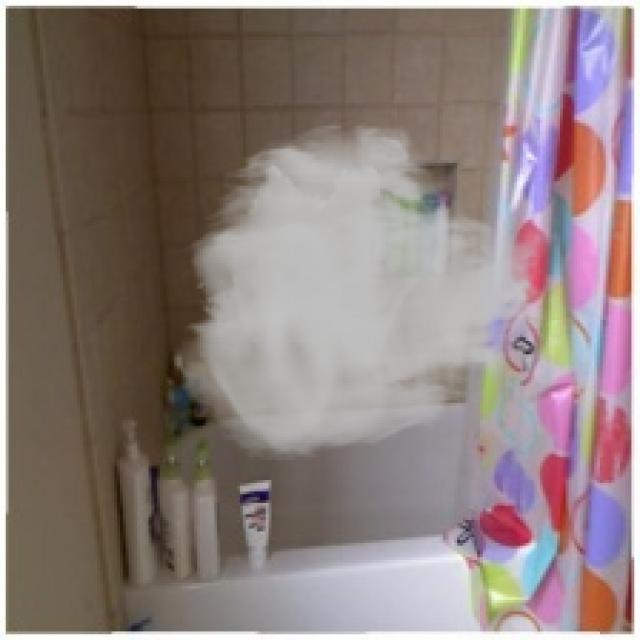Smoke: (171, 120, 560, 463)
